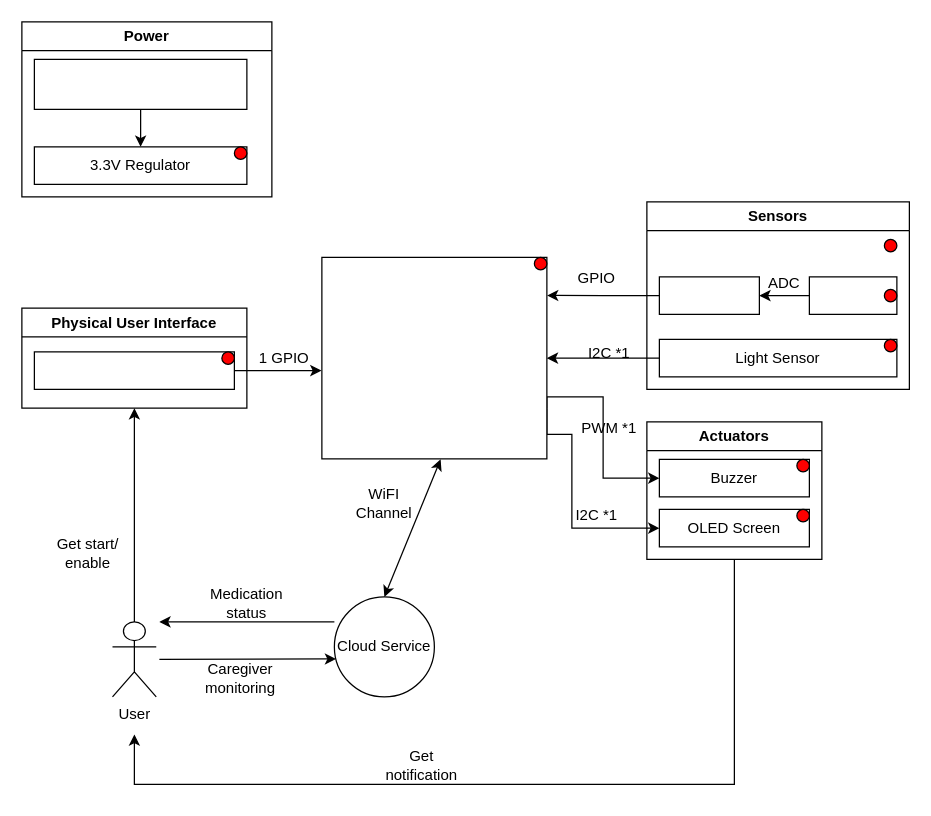
The diagram is 931 pixels wide and 816 high, and some of its shapes have lost their labels. Each missing label, with the centre of its shape:
Amplifier: (708,295)
LiPo Battery 1 Cell (3.7V): (140,83)
Load Cell: (852,295)
MCU SIWG917Y: (434,357)
Reset Button: (133,370)
